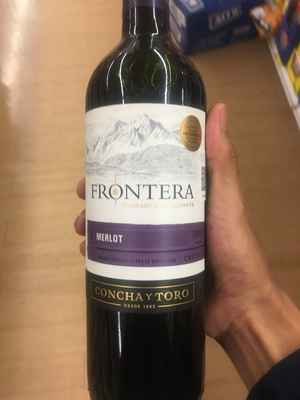frontera merlot: (79, 8, 230, 400)
